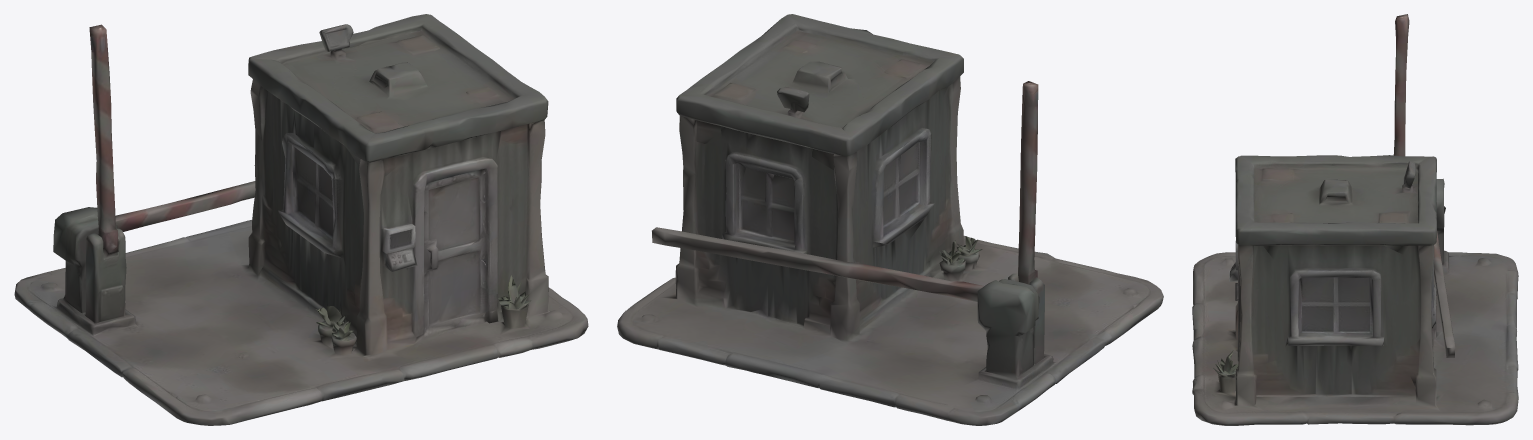
File: police_station_barrier.glb
3 views of the same model, side by side, from view 1: azimuth 30°, elevation 25°; view 2: azimuth 150°, elevation 25°; view 3: azimuth 270°, elevation 25° (orthographic). The views are drawn at different scales.
Parts seen in each view (by area): view 1: tripo_node_a0362eff-caf2-4bb1-bfd7-b4ee4907b116; view 2: tripo_node_a0362eff-caf2-4bb1-bfd7-b4ee4907b116; view 3: tripo_node_a0362eff-caf2-4bb1-bfd7-b4ee4907b116.
Boxes of the visible parts, <box> form: tripo_node_a0362eff-caf2-4bb1-bfd7-b4ee4907b116: <box>14,14,588,425</box>; tripo_node_a0362eff-caf2-4bb1-bfd7-b4ee4907b116: <box>617,14,1163,425</box>; tripo_node_a0362eff-caf2-4bb1-bfd7-b4ee4907b116: <box>1192,14,1518,425</box>.
Size of the model in its own units: 1 by 0.7216 by 0.8249.
Materials: 1 (1 with a texture image).
